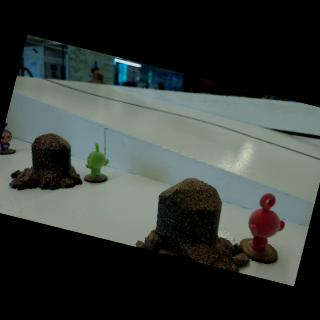teletubby: (248, 193, 284, 251), (85, 143, 108, 177), (0, 122, 11, 150)
